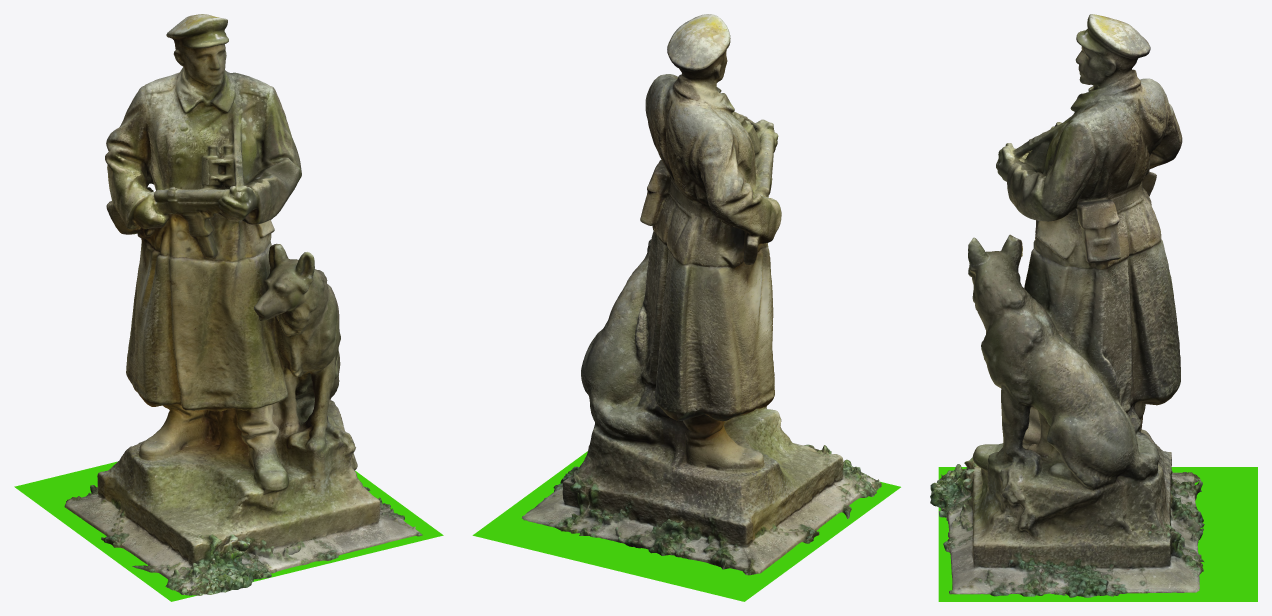
The picture shows the model from 3 angles, left to right: view 1: azimuth 30°, elevation 25°; view 2: azimuth 150°, elevation 25°; view 3: azimuth 270°, elevation 25°; orthographic projection.
Parts seen in each view (by area): view 1: Border guard, Plane; view 2: Border guard, Plane; view 3: Border guard, Plane.
Boxes of the visible parts, x1,y1,x2,y2 form: Border guard: (64, 14, 422, 595); Plane: (14, 461, 443, 601); Border guard: (522, 14, 881, 575); Plane: (472, 451, 900, 601); Border guard: (930, 14, 1204, 597); Plane: (938, 467, 1257, 601).
Size of the model in its own units: 2 by 3.51 by 2.05.
2 materials, 1 textured.
